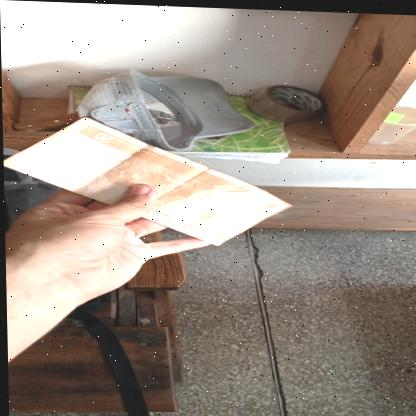twenty-back-vef: (2, 112, 292, 247)
